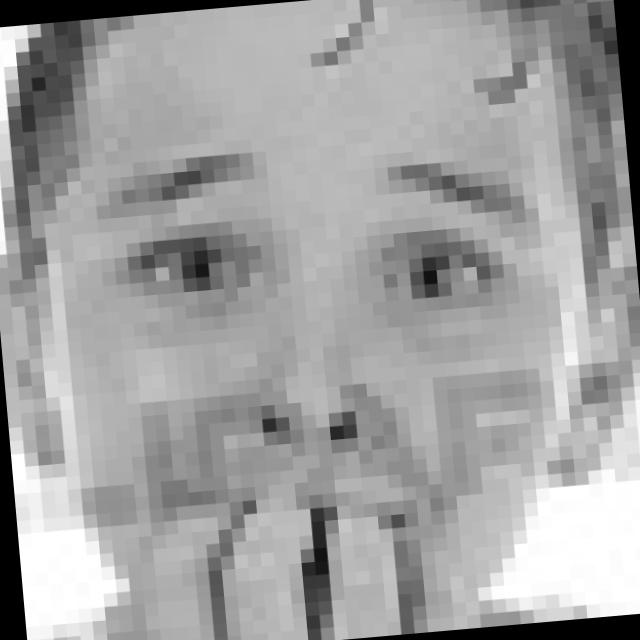fear: (93, 118, 572, 600)
